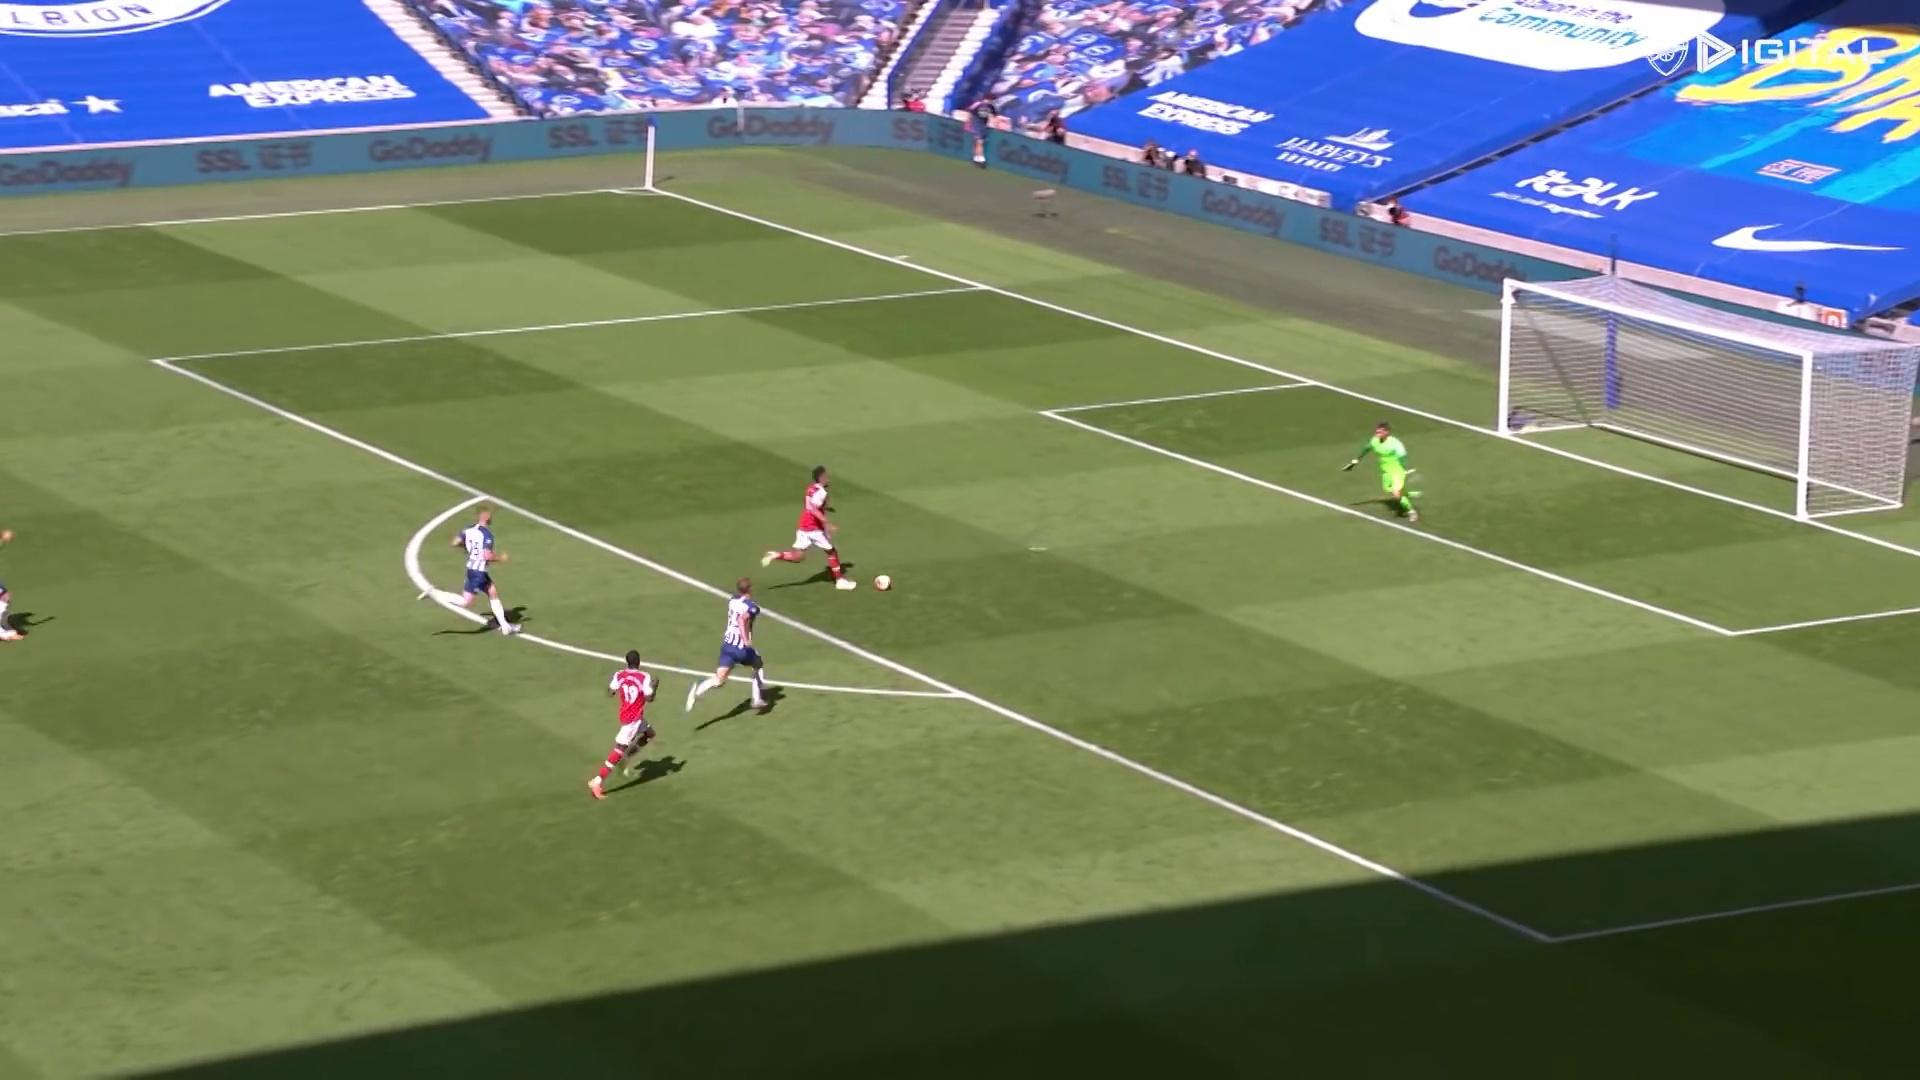ball: (873, 570, 896, 595)
goalkeeper: (1340, 420, 1424, 530)
player: (415, 506, 524, 642), (684, 578, 783, 723), (763, 460, 865, 593), (590, 647, 666, 804), (0, 497, 29, 654)
